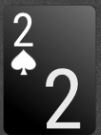Spade: (10, 49, 37, 75)
